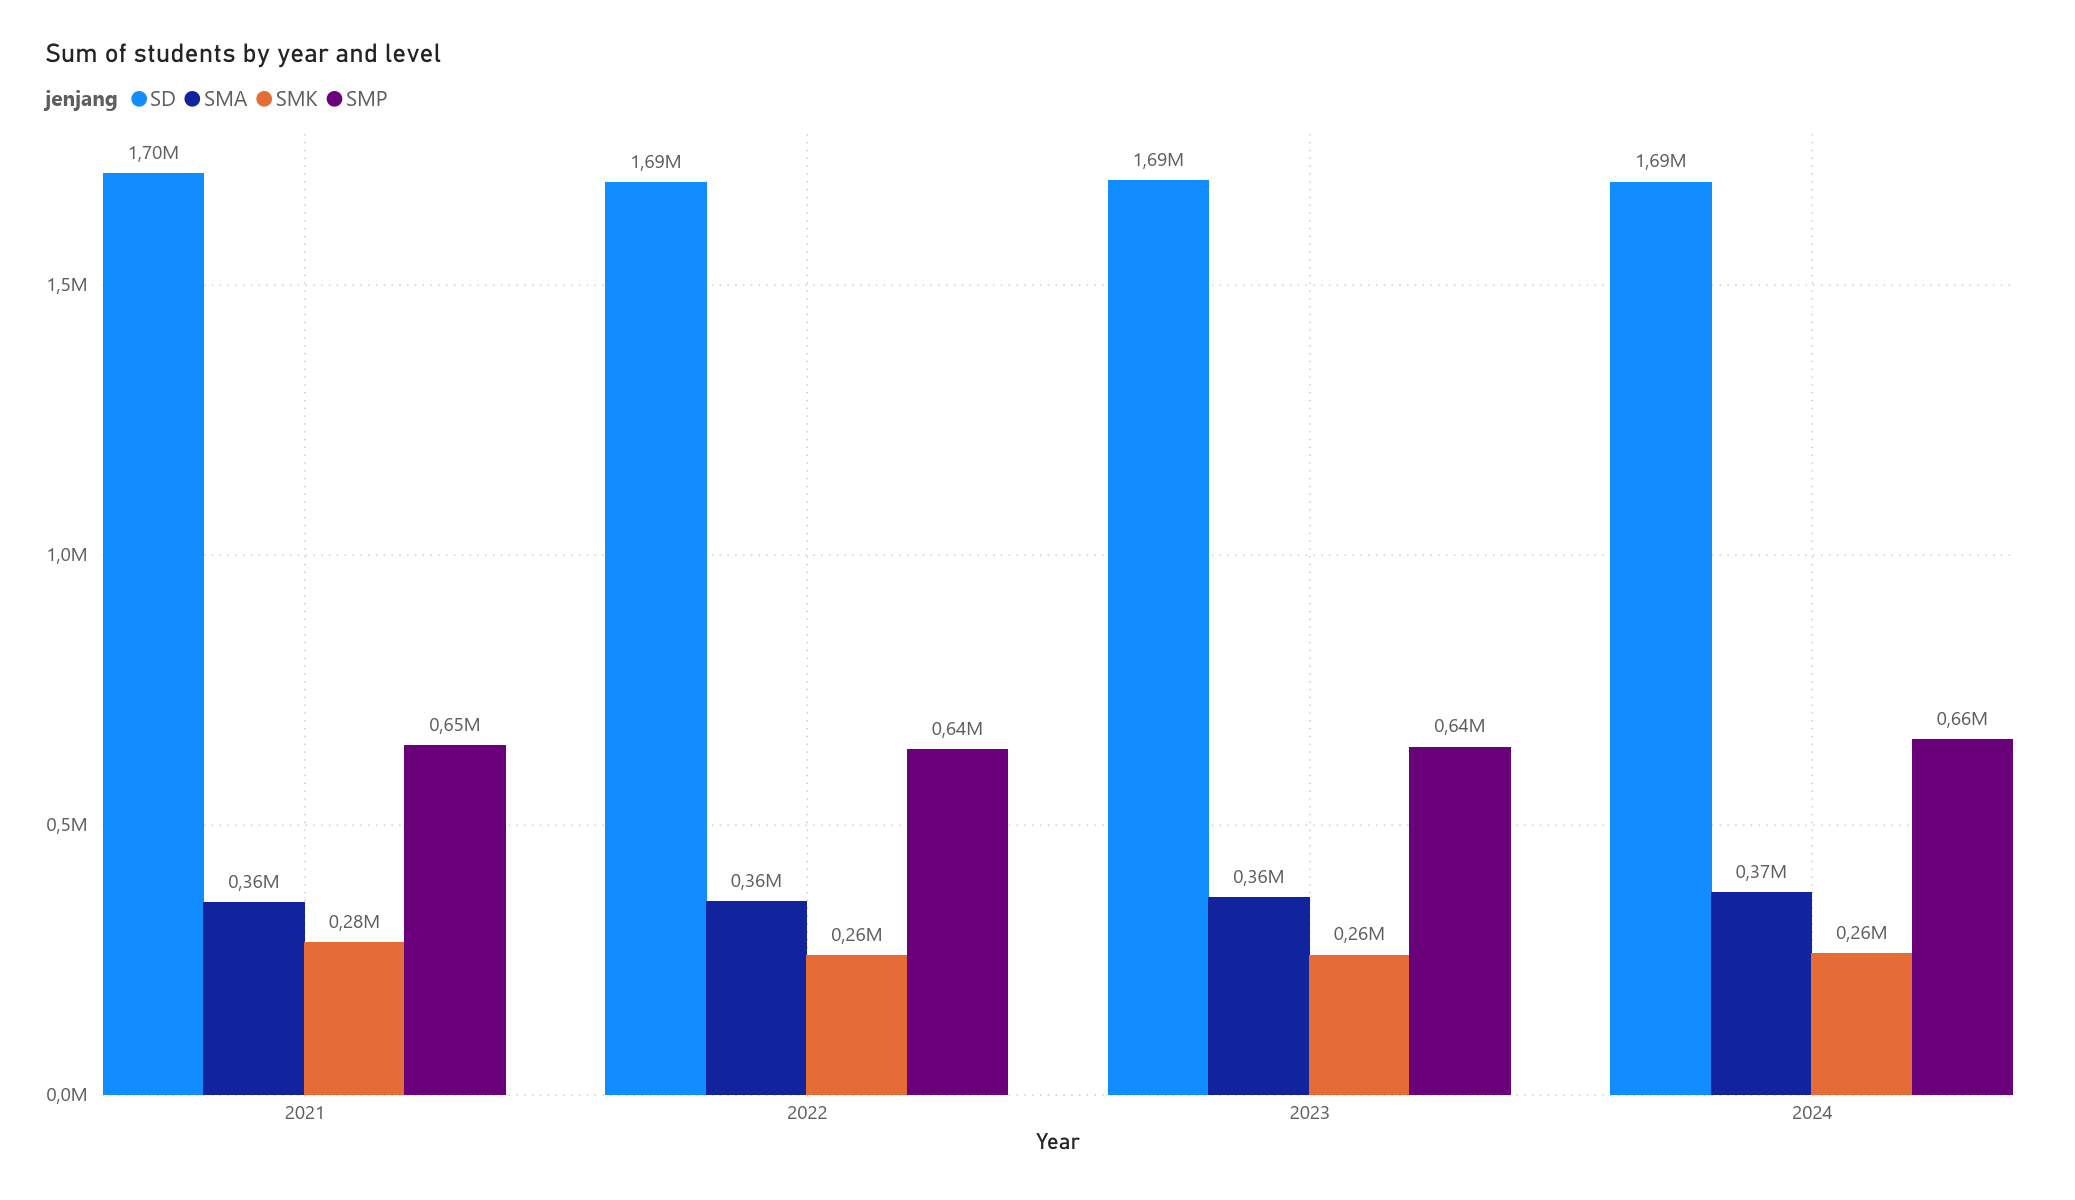

The page's visual inventory and layout, read from the dashboard file:
{"tool":"powerbi","page":{"name":"Jmlh siswa","canvas":[1280,720],"ordinal":0},"visuals":[{"type":"clusteredColumnChart","title":"Sum of students by year and level","fields":{"Category":["df_borneo.tahun"],"Series":["df_borneo.jenjang"],"Y":["Sum(df_borneo.siswa)"]},"box":[0,0,1268.7,719],"z":0}]}

Visuals, with their boxes on the page's 1280x720 design canvas (x1, y1, x2, y2). These are canvas units, not pixel positions in the 2075x1200 screenshot, which may show the page scaled, cropped or inside an application window:
"Sum of students by year and level" clusteredColumnChart: [x1=0, y1=0, x2=1269, y2=719]
